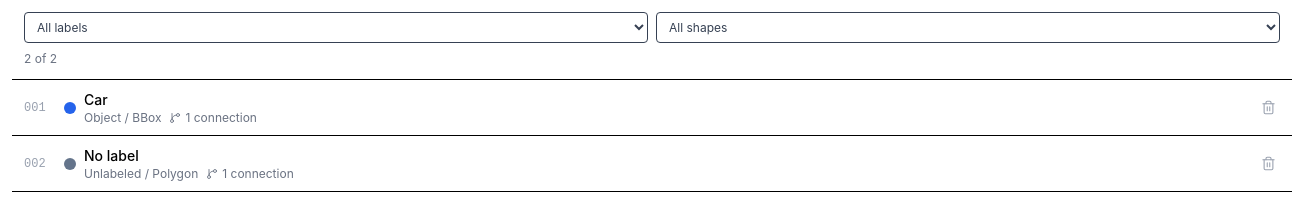
Test: AnnotationInspector › lists both shape types and filters without changing annotation data
Expected: the text "Car" is shown, [84,90,108,108]
Expected: the text "No label" is shown, [84,146,139,164]
Select "Polygon" in the dropdown named "Filter by shape" at (968, 28), box [656,12,1280,43]
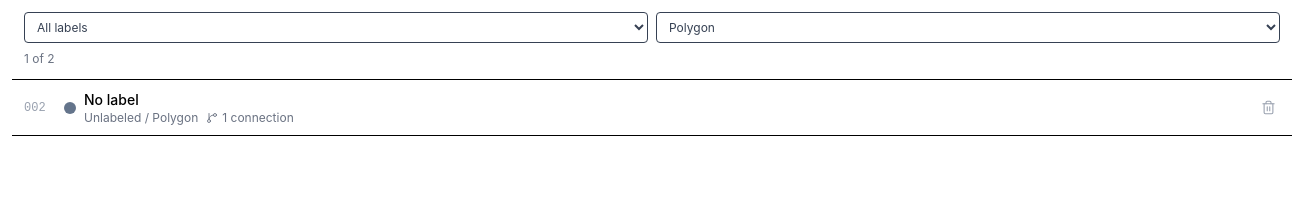
Expected: the text "Unlabeled / Polygon" is shown, [84,110,198,126]
Expected: the button "Car" is gone
